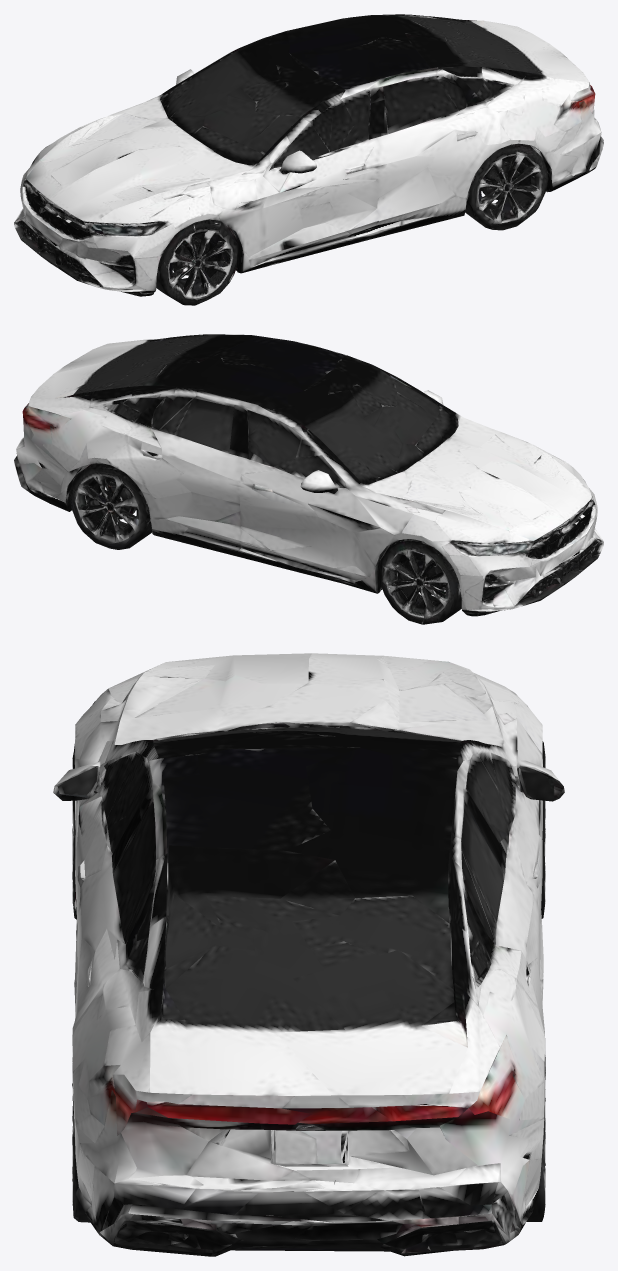
File: dk-fleet-sedan-textured-lite.glb
3 views of the same model, one above another, from view 1: azimuth 30°, elevation 25°; view 2: azimuth 150°, elevation 25°; view 3: azimuth 270°, elevation 25° (orthographic). The views are drawn at different scales.
Size of the model in its own units: 1.9 by 0.5708 by 0.8081.
Materials: 1 (1 with a texture image).
